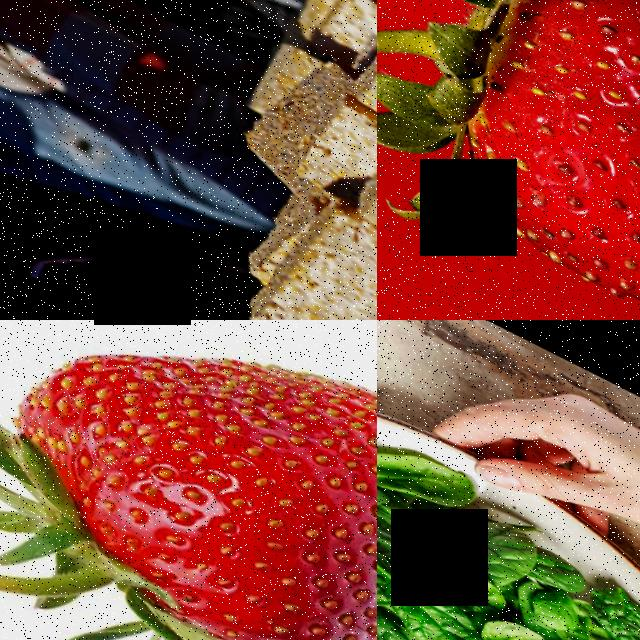spinach: (411, 485, 540, 588), (377, 413, 479, 522), (377, 565, 490, 640), (568, 559, 640, 640)
strawberry: (0, 320, 377, 640), (377, 0, 640, 320)
tempeh: (221, 174, 377, 320), (324, 28, 377, 308)
